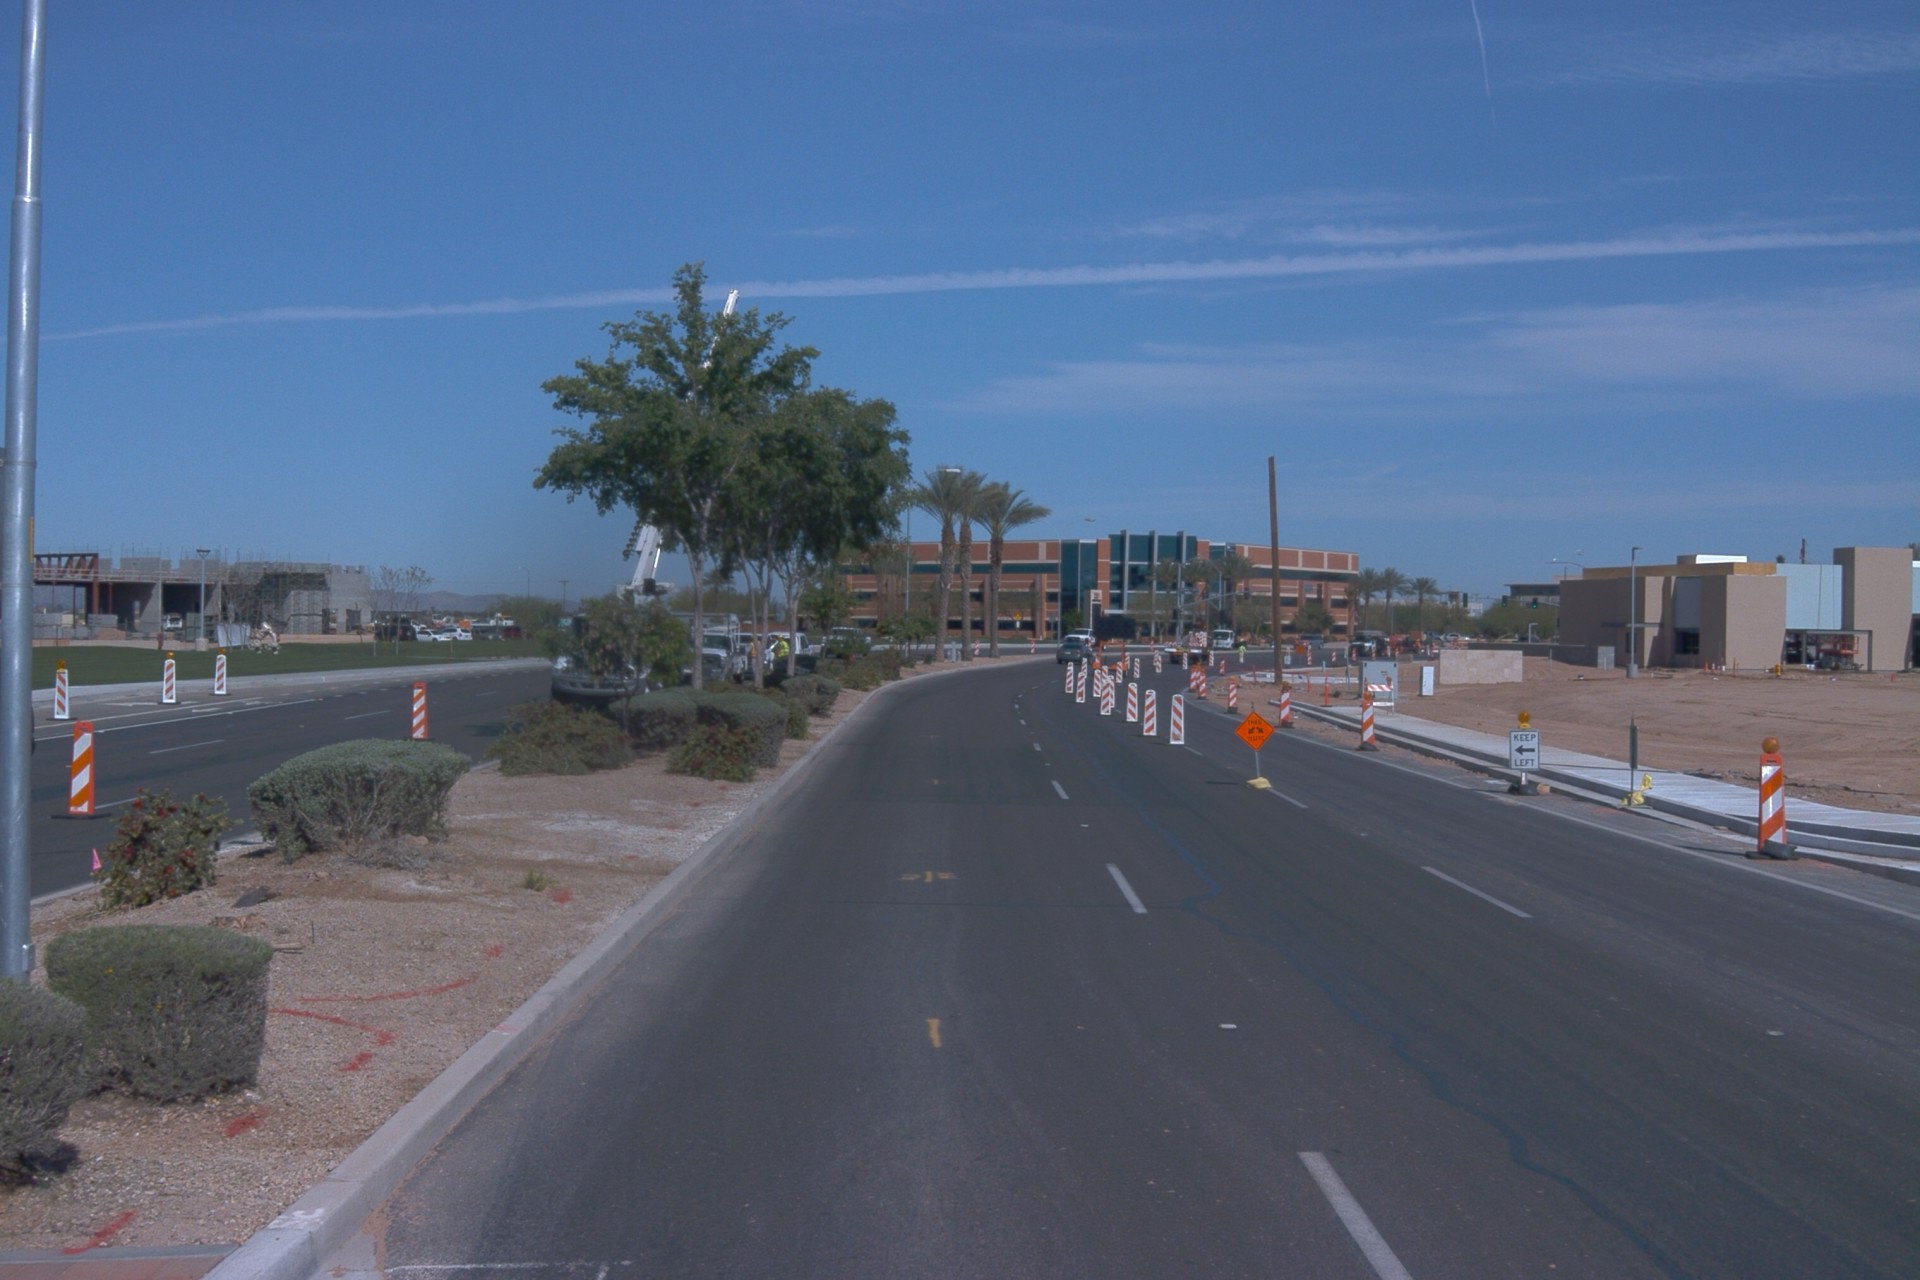TYPE_PEDESTRIAN: (747, 634, 760, 677), (774, 633, 790, 659), (1236, 642, 1247, 663)
TYPE_VEHICLE: (533, 282, 742, 734), (672, 558, 825, 691), (681, 625, 751, 688), (1084, 608, 1140, 686), (1160, 623, 1220, 670), (1346, 629, 1433, 661), (765, 626, 813, 674), (693, 611, 749, 650), (1060, 623, 1116, 655), (744, 628, 779, 679), (818, 625, 875, 656), (373, 619, 419, 646), (1054, 640, 1094, 667), (1207, 628, 1251, 651), (500, 621, 538, 645), (403, 628, 454, 645), (382, 617, 428, 633), (435, 625, 474, 643), (467, 625, 502, 645), (1294, 633, 1327, 650), (158, 614, 186, 634)
